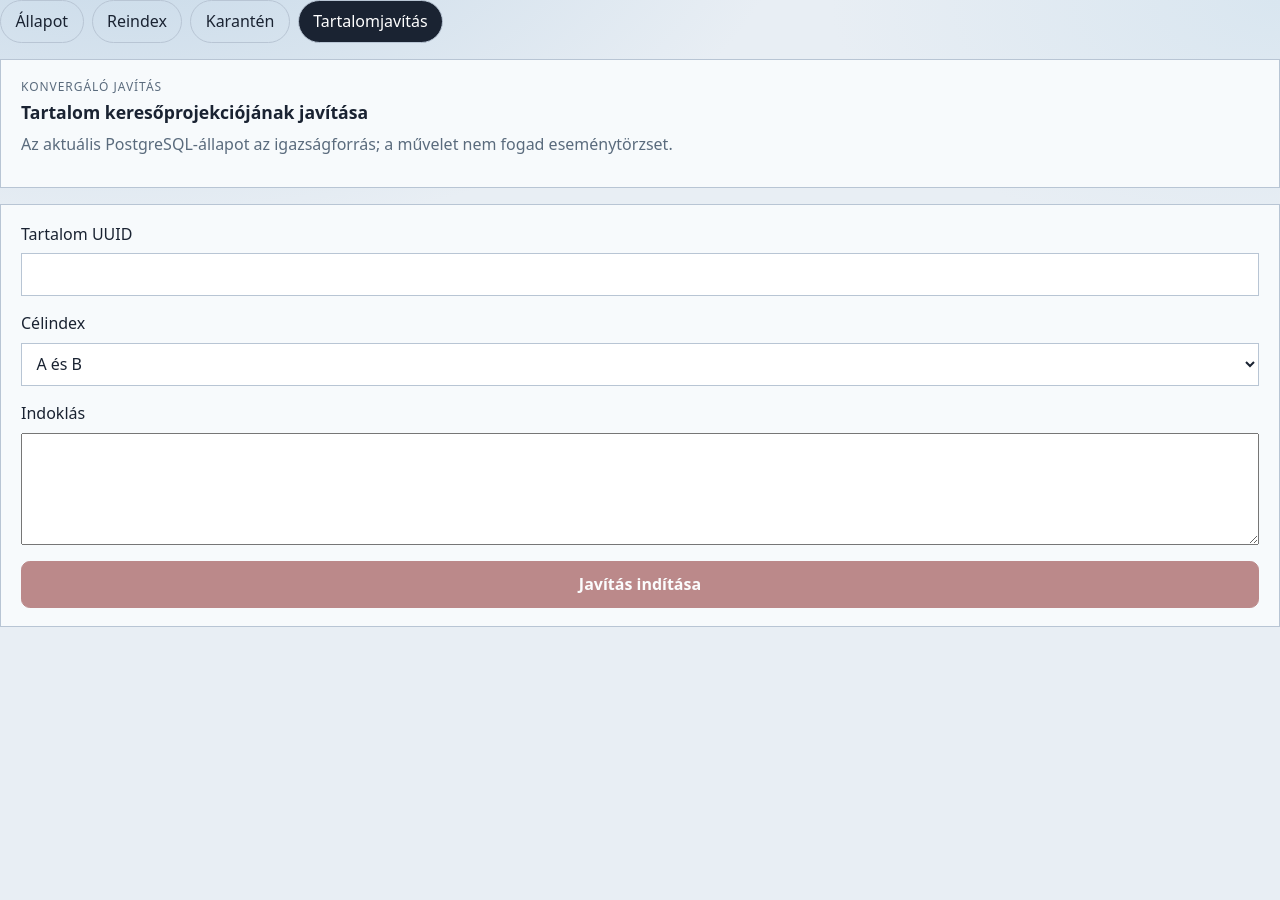
Test case: Phase 5 operator pages › submits a both-index repair and restores its terminal action panel
Type "018f1e2c-8b7a-7d3e-9c4b-1a2b3c4d5e6f" into the field labelled "Tartalom UUID" at (640, 275), box [21, 253, 1259, 296]
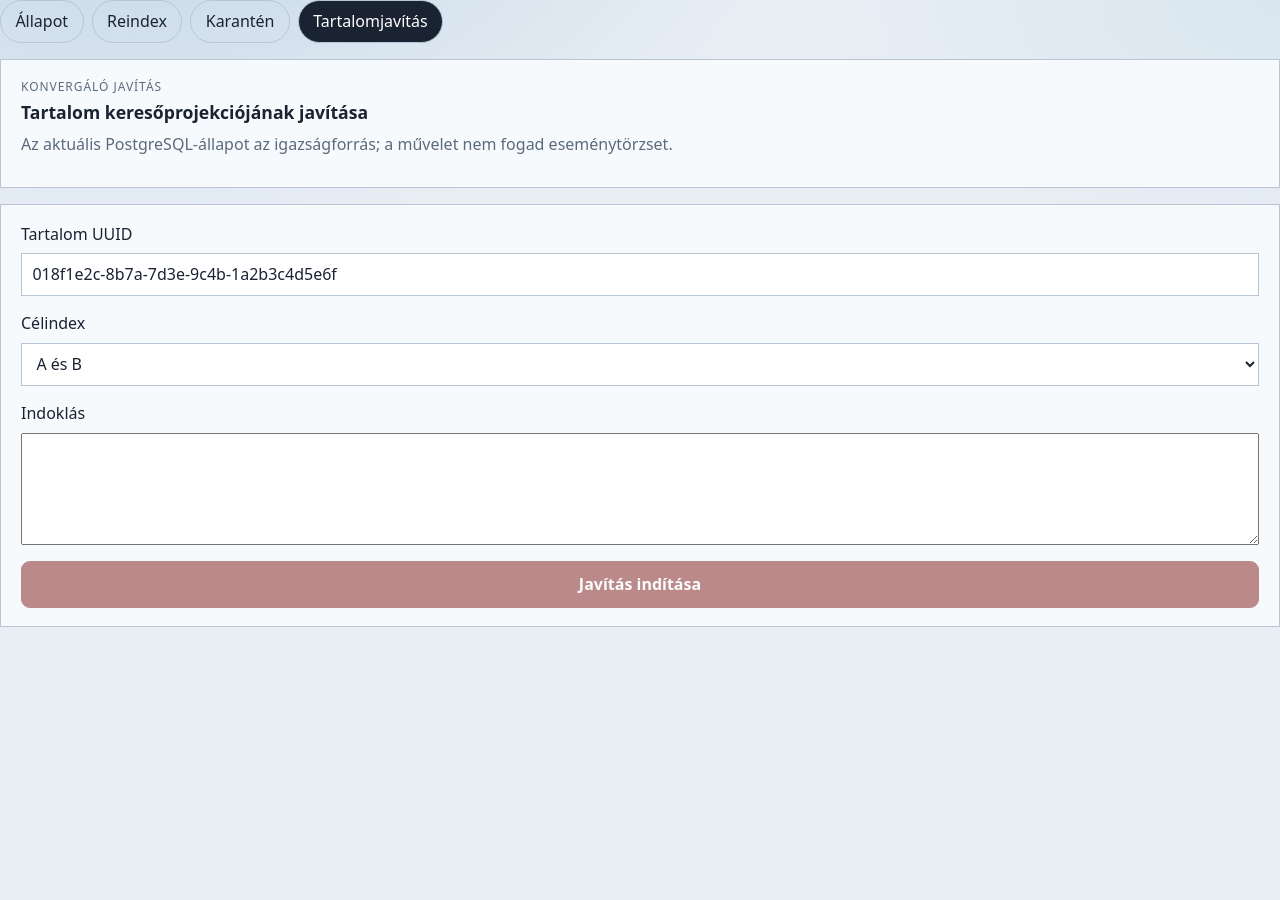
Type "Keresőprojekció javítása" into the text box labelled "Indoklás" at (640, 488), box [21, 432, 1259, 544]
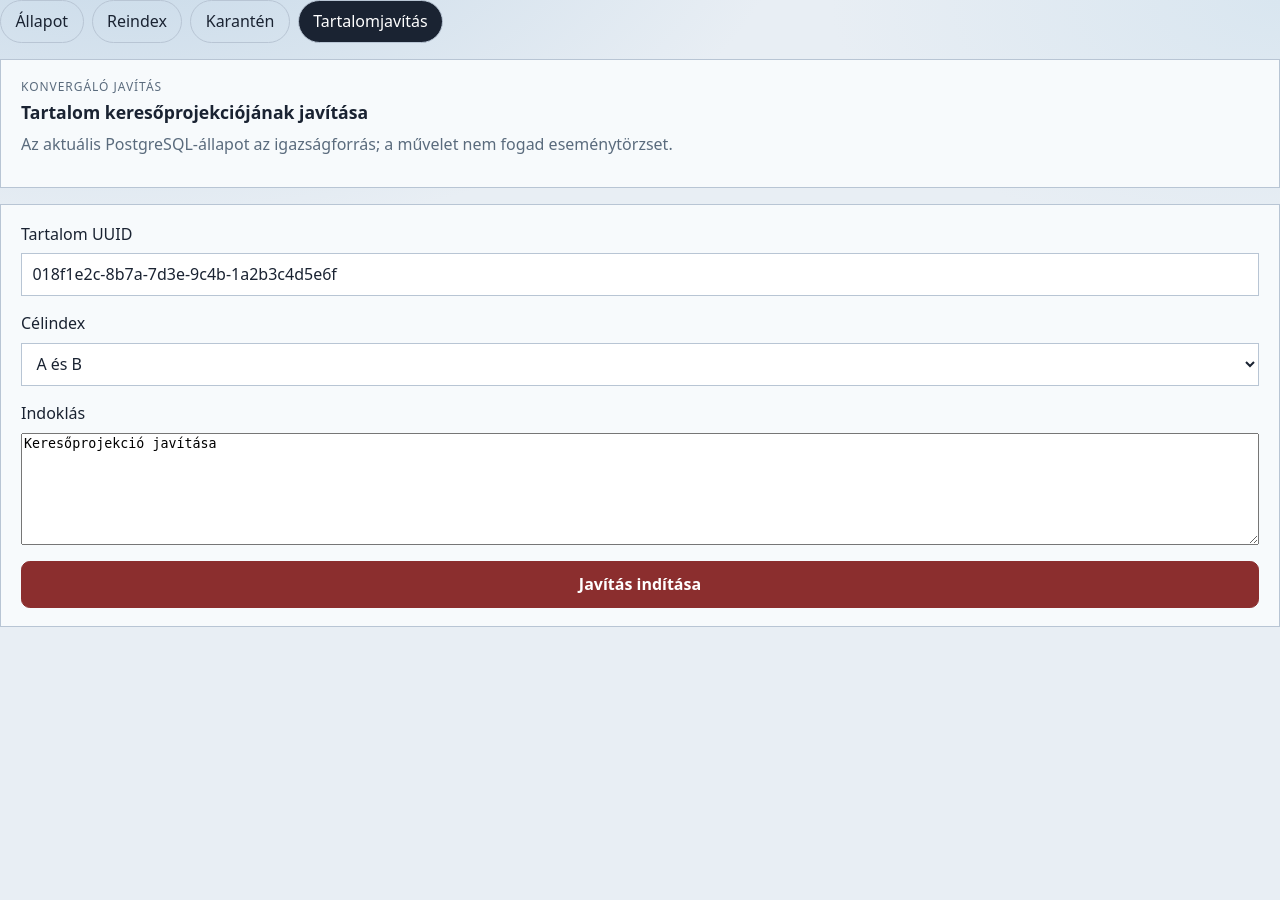
Click the button "Javítás indítása" at (640, 584), box [21, 560, 1259, 608]
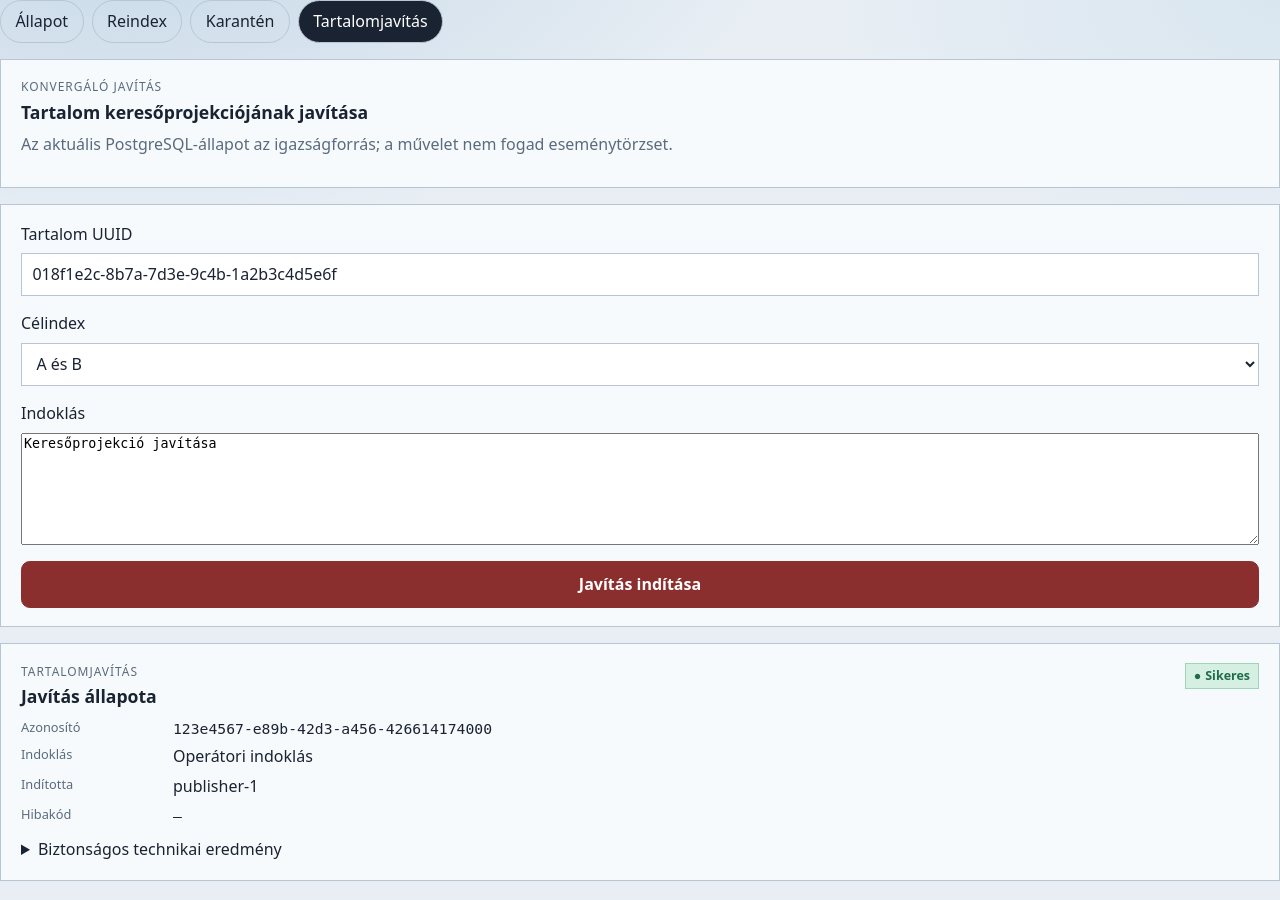
Result: the heading "Javítás állapota" is shown at [21, 684, 157, 710]
